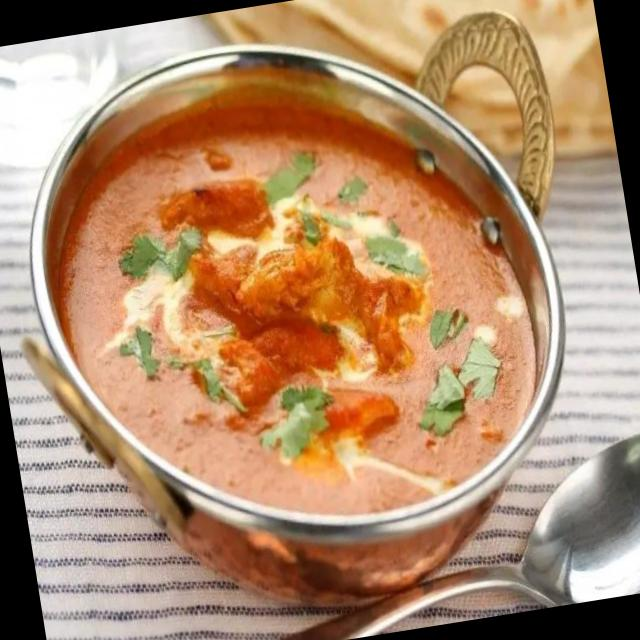chicken: (44, 78, 567, 556)
